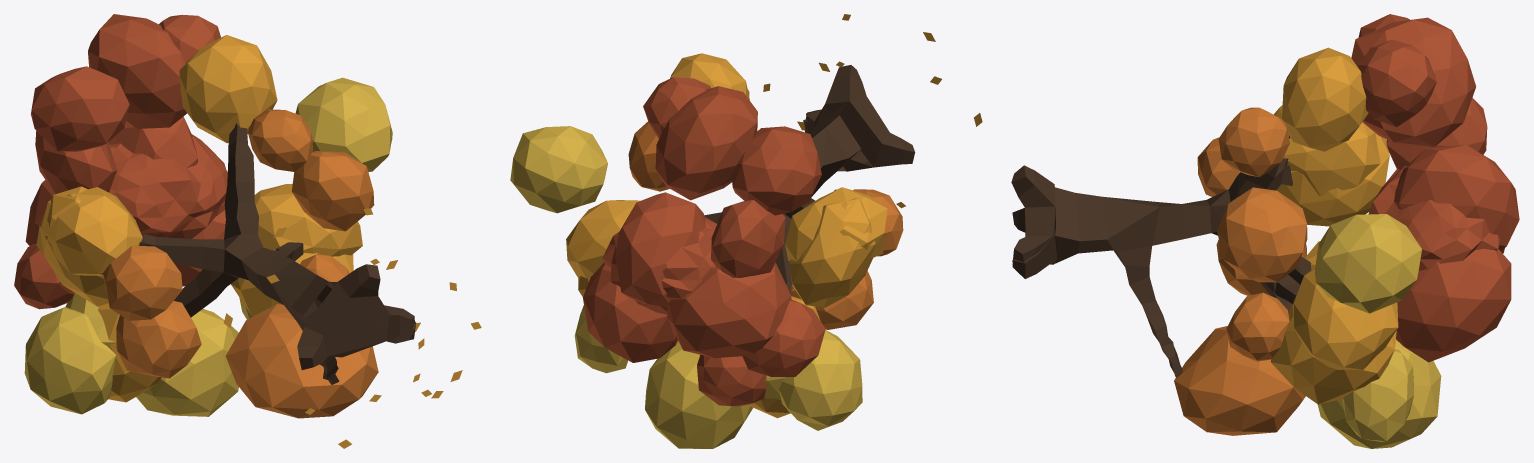
File: TreeOakAutumnB4.fbx
3 views of the same model, side by side, from view 1: azimuth 30°, elevation 25°; view 2: azimuth 150°, elevation 25°; view 3: azimuth 270°, elevation 25° (orthographic). The views are drawn at different scales.
Visible parts, largest first — view 1: M_Tree_Leaf_Rust, M_Tree_Leaf_Orange, M_Tree_Leaf_Amber, M_Tree_Leaf_Gold, M_Tree_Bark.001; view 2: M_Tree_Leaf_Rust, M_Tree_Leaf_Gold, M_Tree_Leaf_Amber, M_Tree_Bark.001, M_Tree_Leaf_Orange; view 3: M_Tree_Leaf_Rust, M_Tree_Leaf_Amber, M_Tree_Leaf_Orange, M_Tree_Bark.001, M_Tree_Leaf_Gold.
Boxes of the visible parts, x1,y1,x2,y2 form: M_Tree_Leaf_Rust: [14, 14, 227, 309]; M_Tree_Leaf_Orange: [103, 109, 378, 418]; M_Tree_Leaf_Amber: [36, 35, 481, 448]; M_Tree_Leaf_Gold: [24, 77, 392, 416]; M_Tree_Bark.001: [139, 123, 416, 384]; M_Tree_Leaf_Rust: [583, 77, 825, 406]; M_Tree_Leaf_Gold: [510, 126, 862, 448]; M_Tree_Leaf_Amber: [566, 14, 982, 418]; M_Tree_Bark.001: [704, 65, 915, 295]; M_Tree_Leaf_Orange: [628, 89, 903, 341]; M_Tree_Leaf_Rust: [1351, 14, 1519, 362]; M_Tree_Leaf_Amber: [1271, 47, 1398, 404]; M_Tree_Leaf_Orange: [1174, 107, 1307, 435]; M_Tree_Bark.001: [1011, 135, 1311, 377]; M_Tree_Leaf_Gold: [1315, 214, 1441, 448].
Size of the model in its own units: 2574 by 2675 by 3036.
